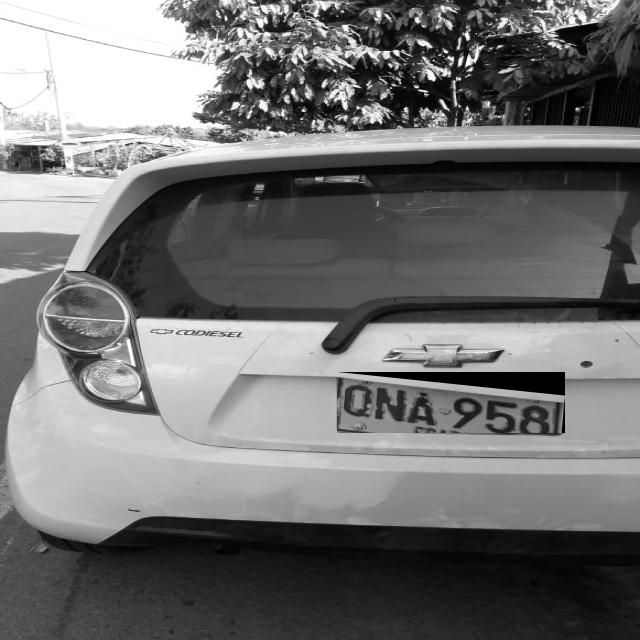plate: (337, 372, 565, 433)
